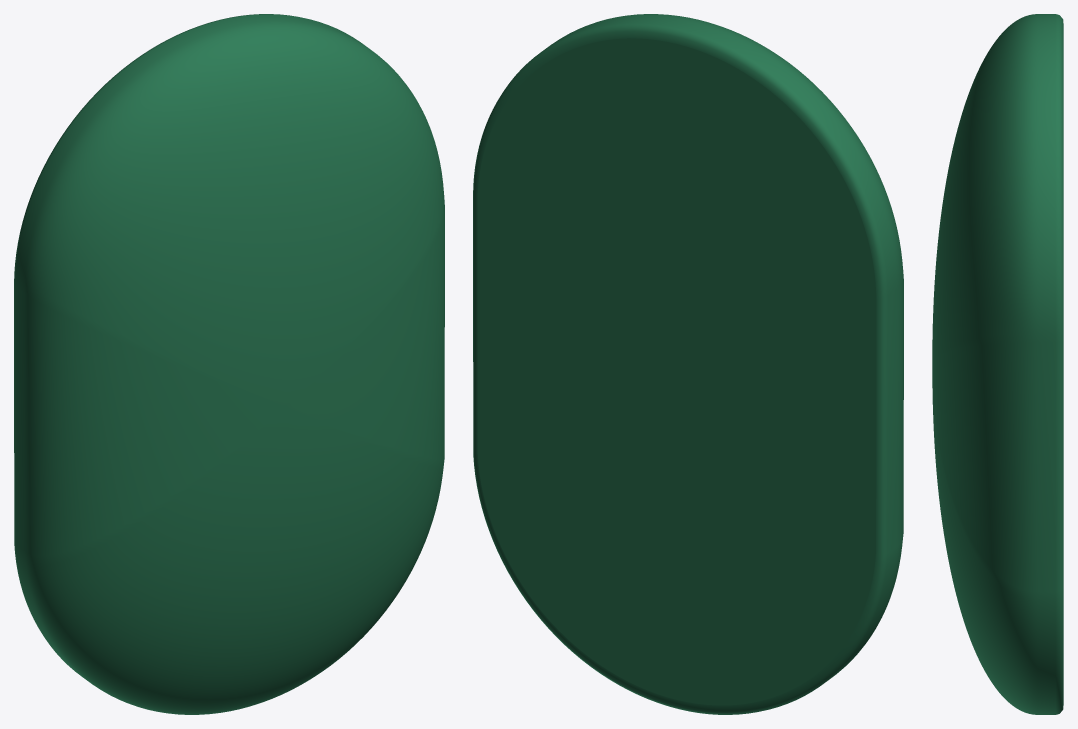
The model's file is cartouche.glb.
The picture shows the model from 3 angles, left to right: view 1: azimuth 30°, elevation 25°; view 2: azimuth 150°, elevation 25°; view 3: azimuth 270°, elevation 25°; orthographic projection. The views are drawn at different scales.
Parts seen in each view (by area): view 1: Cartouche Cabochon 22x14x4mm; view 2: Cartouche Cabochon 22x14x4mm; view 3: Cartouche Cabochon 22x14x4mm.
Boxes of the visible parts, box(x1,y1,x2,y2) form: Cartouche Cabochon 22x14x4mm: box(14, 14, 444, 714); Cartouche Cabochon 22x14x4mm: box(473, 14, 903, 714); Cartouche Cabochon 22x14x4mm: box(932, 14, 1063, 714).
Bounding box in the file's own units: 0.014 × 0.022 × 0.00398.
